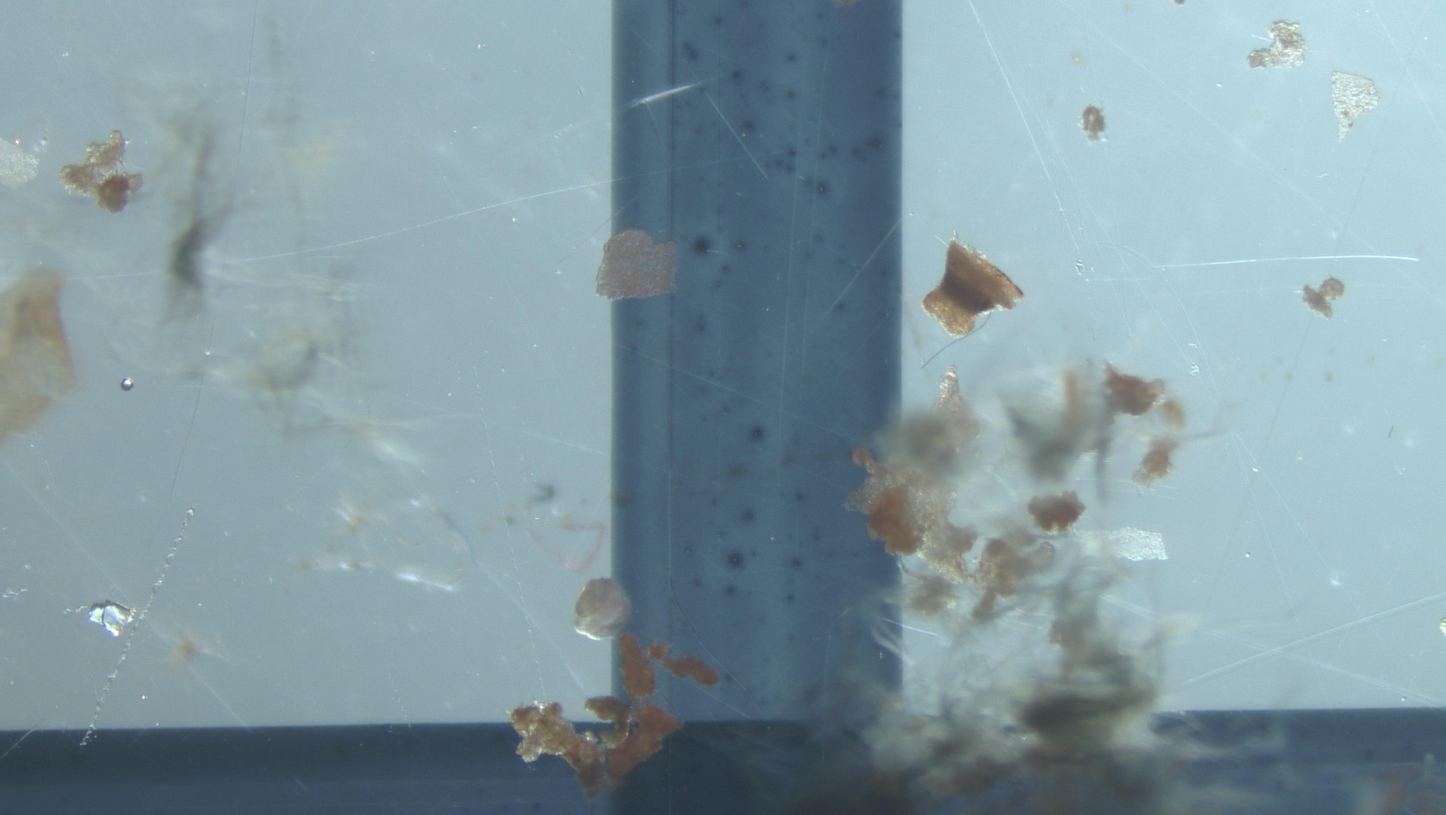live: (574, 578, 631, 640)
